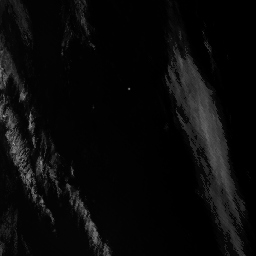Target: (126, 87, 131, 91)
